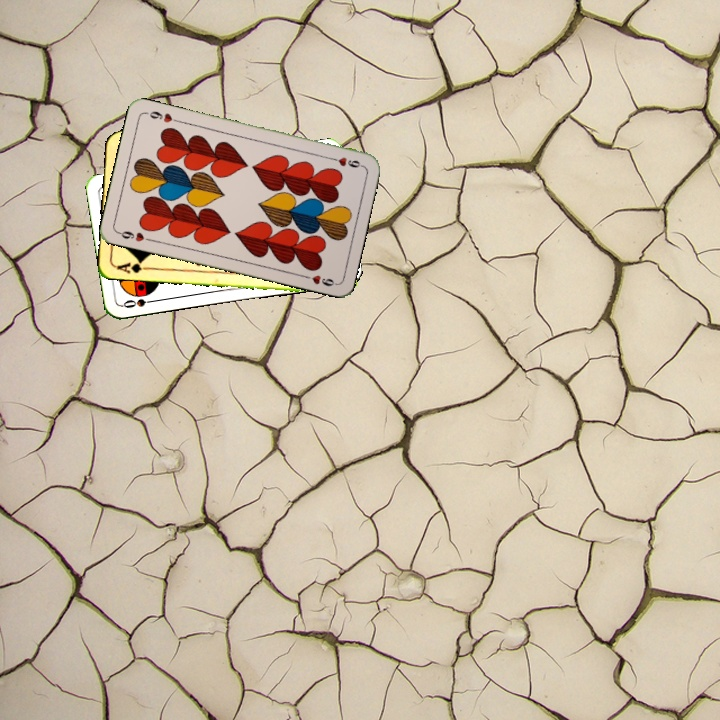GA: (112, 256, 153, 276)
H9: (114, 227, 154, 244), (325, 153, 365, 170)
SO: (119, 294, 159, 311)
